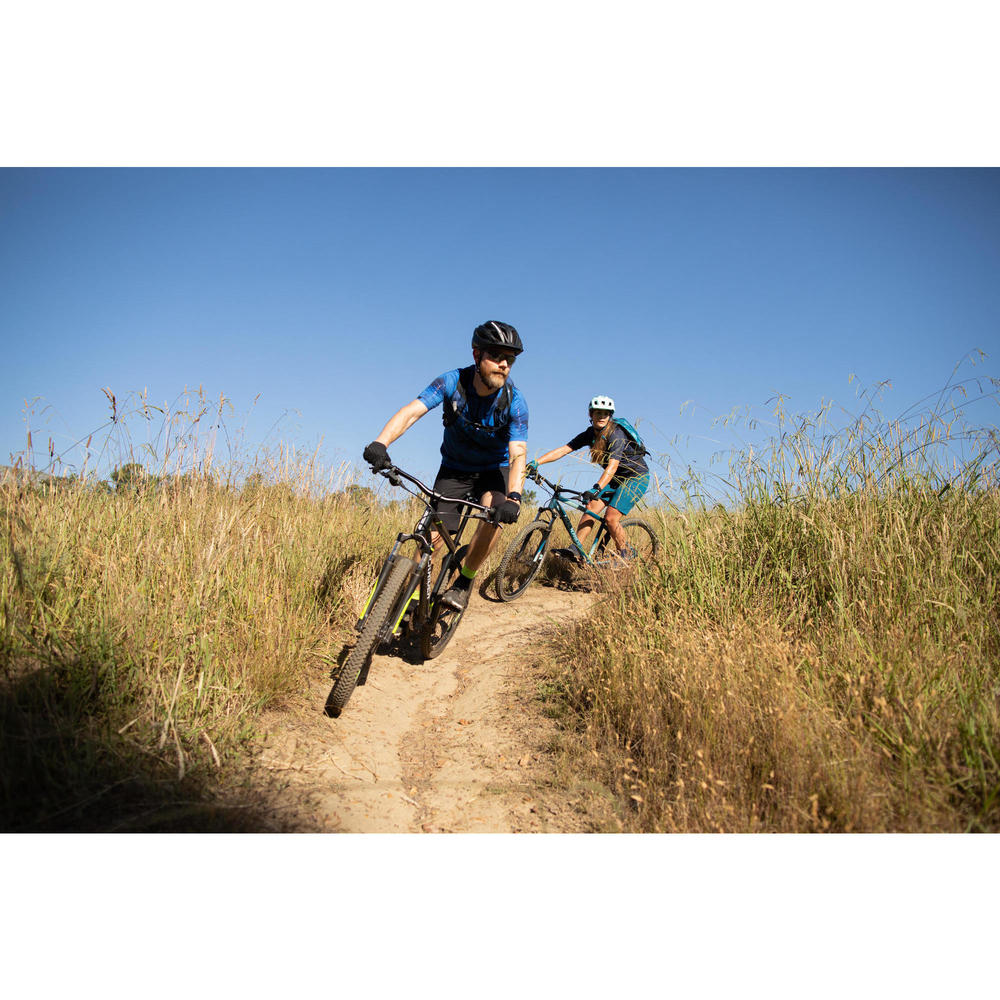MountainBike: (317, 443, 510, 727), (494, 460, 665, 601)
